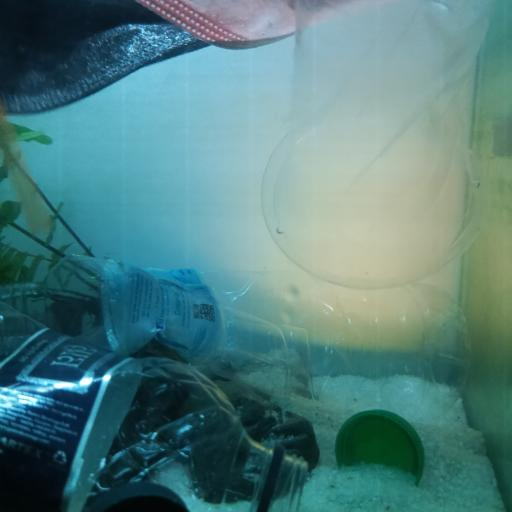bottle_cap: (333, 410, 425, 482), (85, 482, 190, 512)
mask: (0, 4, 322, 114)
plastic_bottle: (5, 249, 472, 421), (0, 299, 310, 512)
plastic_cup: (264, 1, 484, 293)
